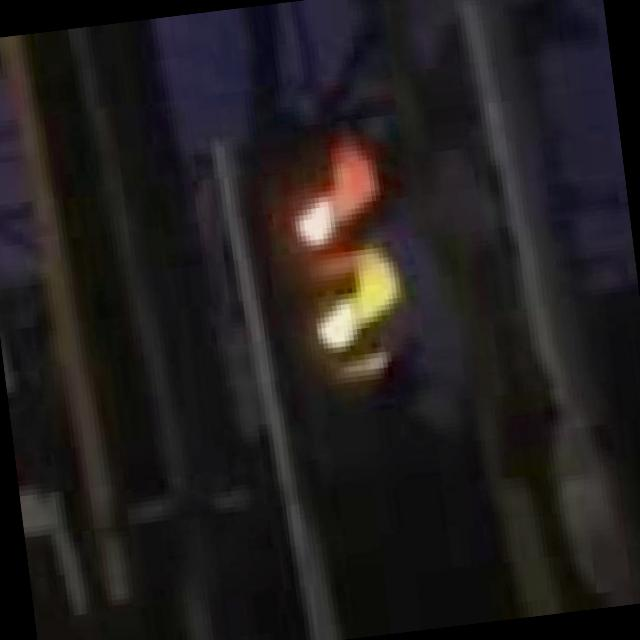Zolte swiatlo: (245, 120, 428, 490)
